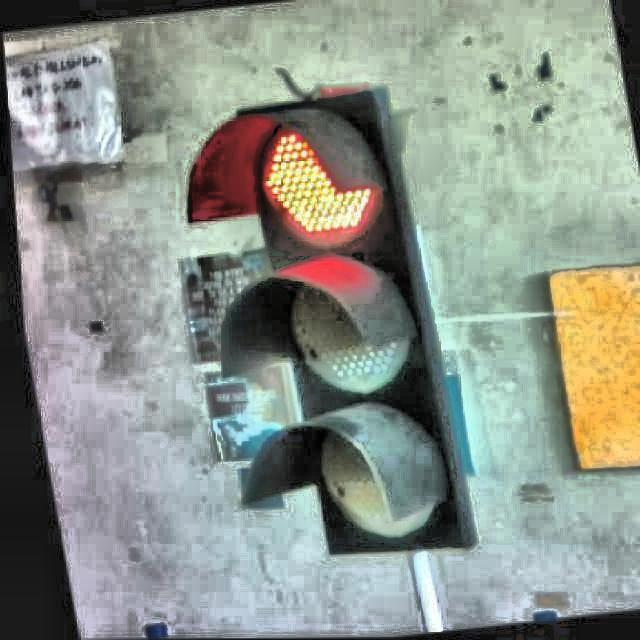red: (226, 96, 478, 558)
